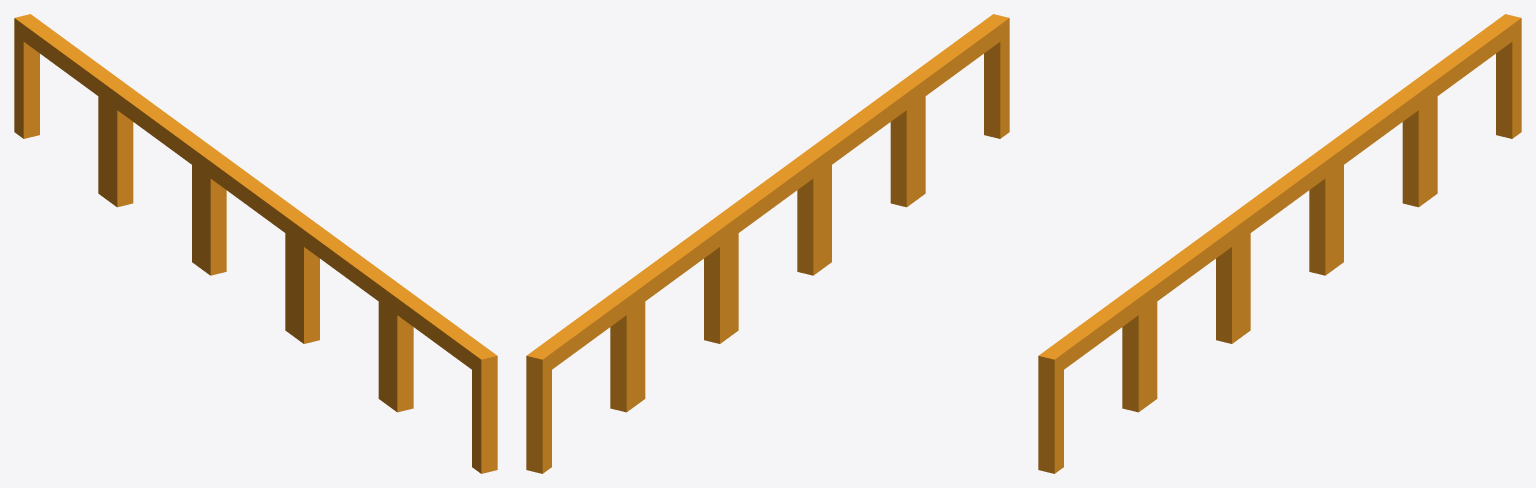
Rendered from SM_Buildings_Rail_5x1_01.fbx.
3 views of the same model, side by side, from view 1: azimuth 30°, elevation 25°; view 2: azimuth 150°, elevation 25°; view 3: azimuth 330°, elevation 25° (orthographic).
Parts seen in each view (by area): view 1: SM_Buildings_Rail_5x1_01; view 2: SM_Buildings_Rail_5x1_01; view 3: SM_Buildings_Rail_5x1_01.
Part boxes in pixels (x1=…): SM_Buildings_Rail_5x1_01: x1=14, y1=14, x2=497, y2=473; SM_Buildings_Rail_5x1_01: x1=526, y1=14, x2=1009, y2=473; SM_Buildings_Rail_5x1_01: x1=1038, y1=14, x2=1521, y2=473.
Bounding box in the file's own units: 10 × 67.5 × 500.
